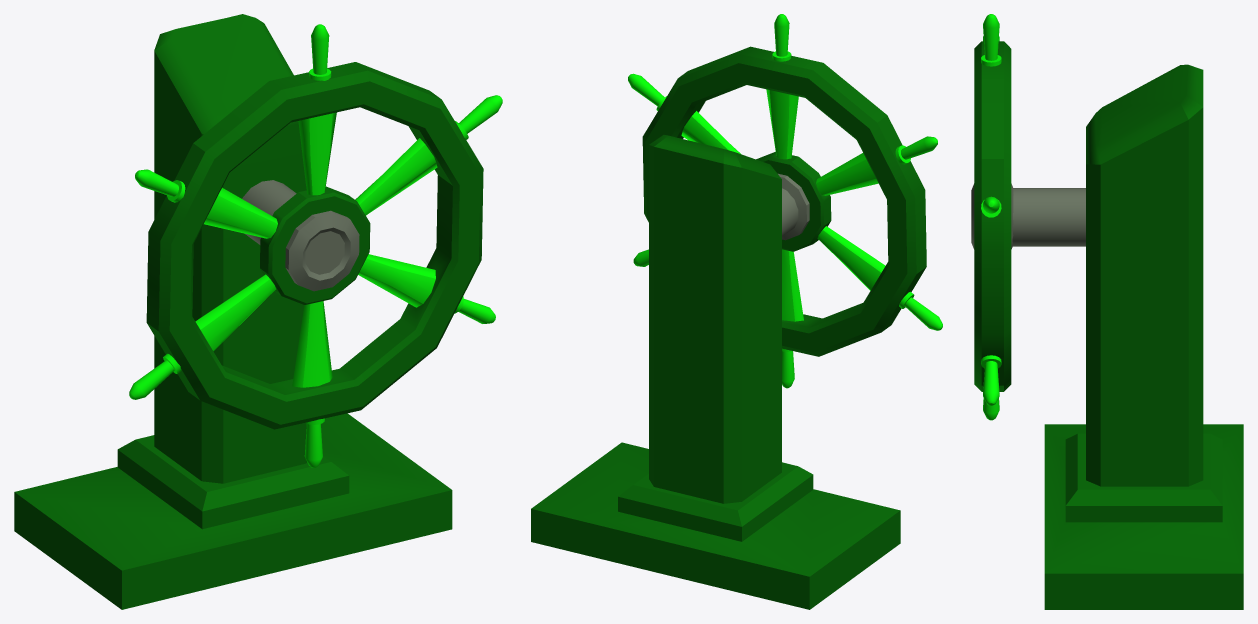
The model's file is Helm.fbx.
The picture shows the model from 3 angles, left to right: view 1: azimuth 30°, elevation 25°; view 2: azimuth 150°, elevation 25°; view 3: azimuth 270°, elevation 25°; orthographic projection. The views are drawn at different scales.
Parts seen in each view (by area): view 1: barre; view 2: barre; view 3: barre.
Boxes of the visible parts, x1,y1,x2,y2 form: barre: (14, 14, 502, 609); barre: (531, 14, 942, 609); barre: (971, 14, 1243, 609).
Size of the model in its own units: 1.61 by 2.34 by 1.1.
